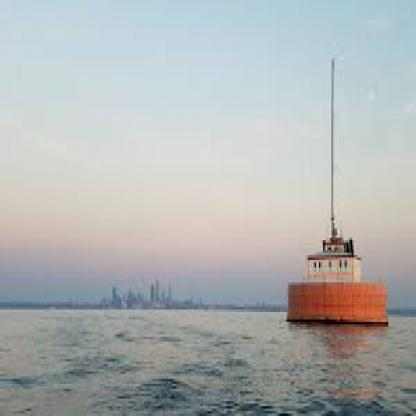buoy: (280, 35, 395, 339)
